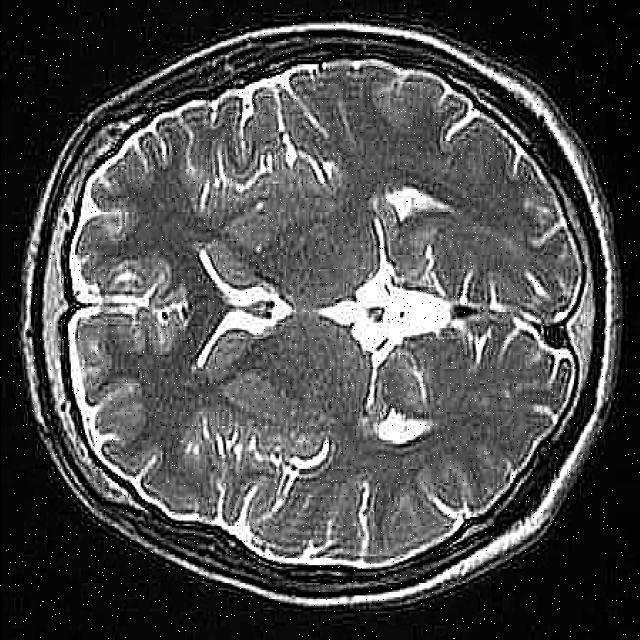No_Tumor: (21, 21, 621, 606)
